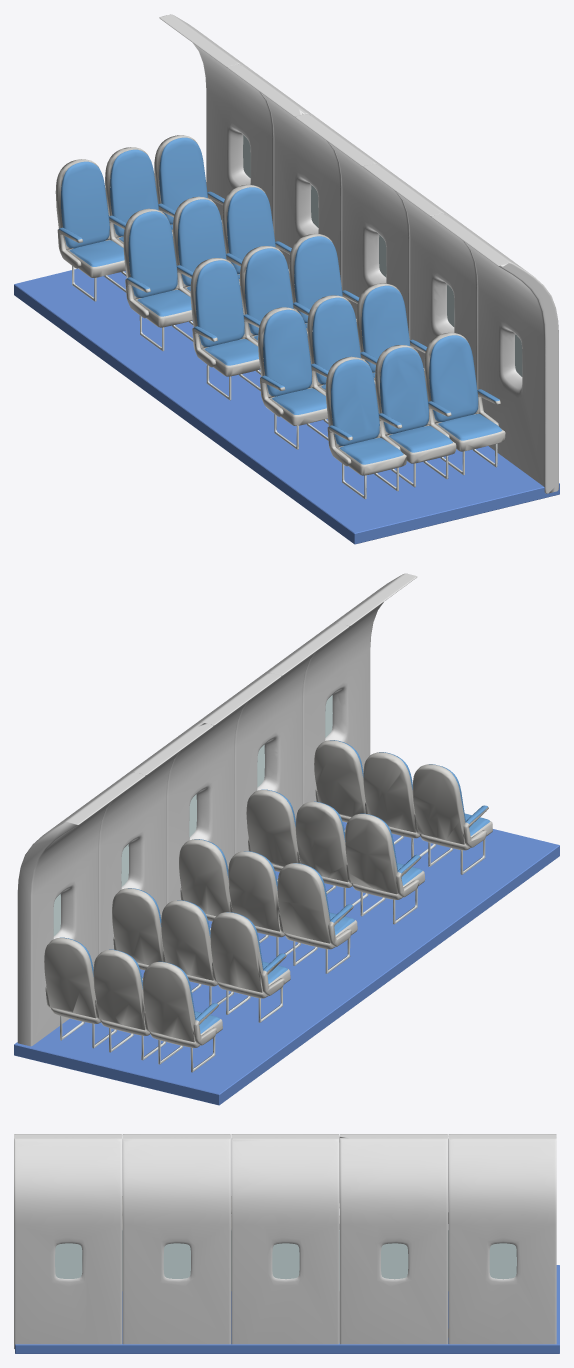
Rendered from planecabin.glb.
The picture shows the model from 3 angles, top to bottom: view 1: azimuth 30°, elevation 25°; view 2: azimuth 150°, elevation 25°; view 3: azimuth 270°, elevation 25°; orthographic projection. The views are drawn at different scales.
Parts seen in each view (by area): view 1: Chair_blinn1_0, Wall_blinn4_0, Floor_lambert3_0, Chair_blinn2_0, Chair_blinn3_0, Window_blinn5_0; view 2: Chair_blinn2_0, Wall_blinn4_0, Floor_lambert3_0, Chair_blinn1_0, Chair_blinn3_0, Window_blinn5_0; view 3: Wall_blinn4_0, Floor_lambert3_0, Window_blinn5_0.
Part boxes in pixels (<box>): Chair_blinn1_0: <box>59,137,502,464</box>; Wall_blinn4_0: <box>159,14,558,493</box>; Floor_lambert3_0: <box>14,268,559,544</box>; Chair_blinn2_0: <box>55,135,505,475</box>; Chair_blinn3_0: <box>72,266,497,499</box>; Window_blinn5_0: <box>243,135,522,376</box>; Chair_blinn2_0: <box>44,740,492,1048</box>; Wall_blinn4_0: <box>17,573,417,1046</box>; Floor_lambert3_0: <box>14,821,559,1105</box>; Chair_blinn1_0: <box>60,740,489,1033</box>; Chair_blinn3_0: <box>60,829,485,1072</box>; Window_blinn5_0: <box>53,695,332,936</box>; Wall_blinn4_0: <box>14,1134,556,1349</box>; Floor_lambert3_0: <box>15,1265,559,1353</box>; Window_blinn5_0: <box>55,1230,516,1290</box>.
Bounding box in the file's own units: 2.09 × 2.38 × 6.01.
